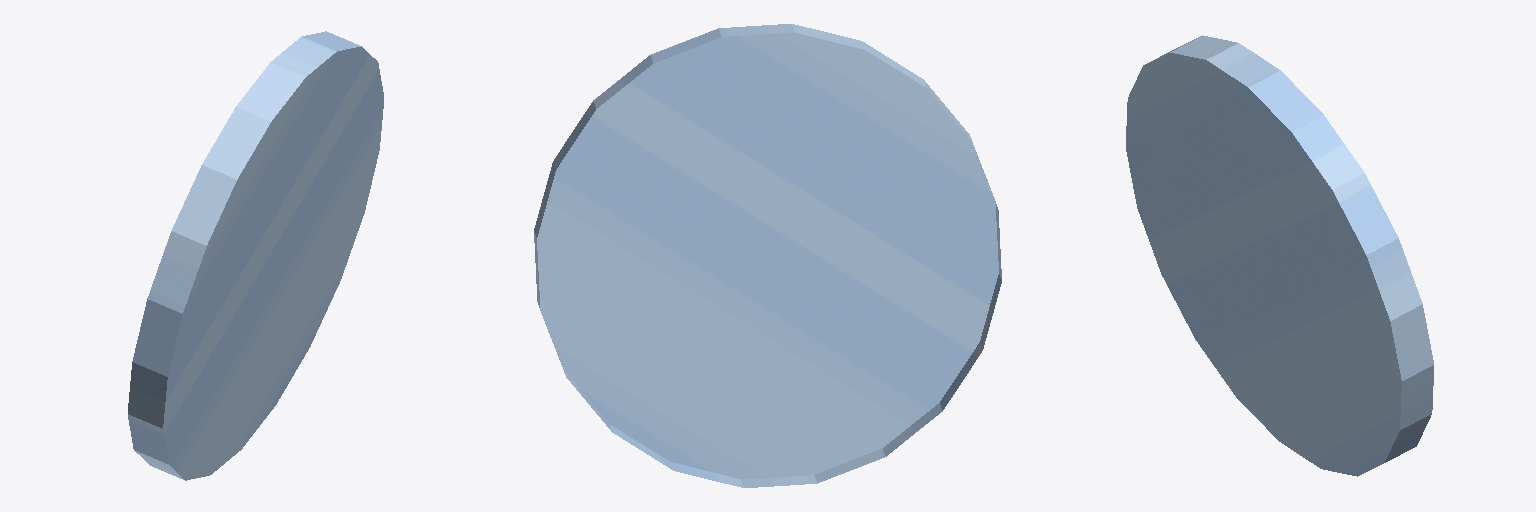
3 renders of one model, left to right at view 1: azimuth 30°, elevation 25°; view 2: azimuth 150°, elevation 25°; view 3: azimuth 270°, elevation 25°, orthographic.
Parts seen in each view (by area): view 1: pasted__pasted__pasted__pSphere22polySurface155 pasted__group39 ; view 2: pasted__pasted__pasted__pSphere22polySurface155 pasted__group39 ; view 3: pasted__pasted__pasted__pSphere22polySurface155 pasted__group39 .
Boxes of the visible parts, box(x1,y1,x2,y2) form: pasted__pasted__pasted__pSphere22polySurface155 pasted__group39 : box(128, 31, 383, 480); pasted__pasted__pasted__pSphere22polySurface155 pasted__group39 : box(534, 24, 1001, 487); pasted__pasted__pasted__pSphere22polySurface155 pasted__group39 : box(1126, 35, 1433, 476).
Size of the model in its own units: 3.54 by 3.97 by 2.64.
1 materials, 1 textured.